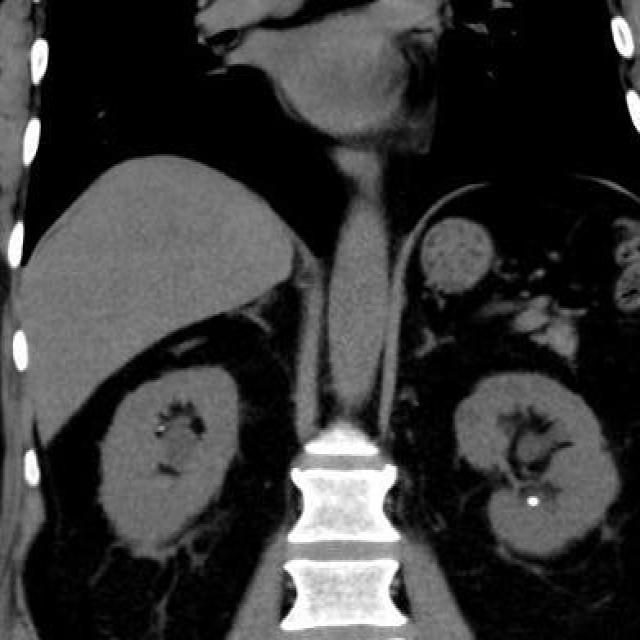Tas_Var: (524, 492, 542, 512)
